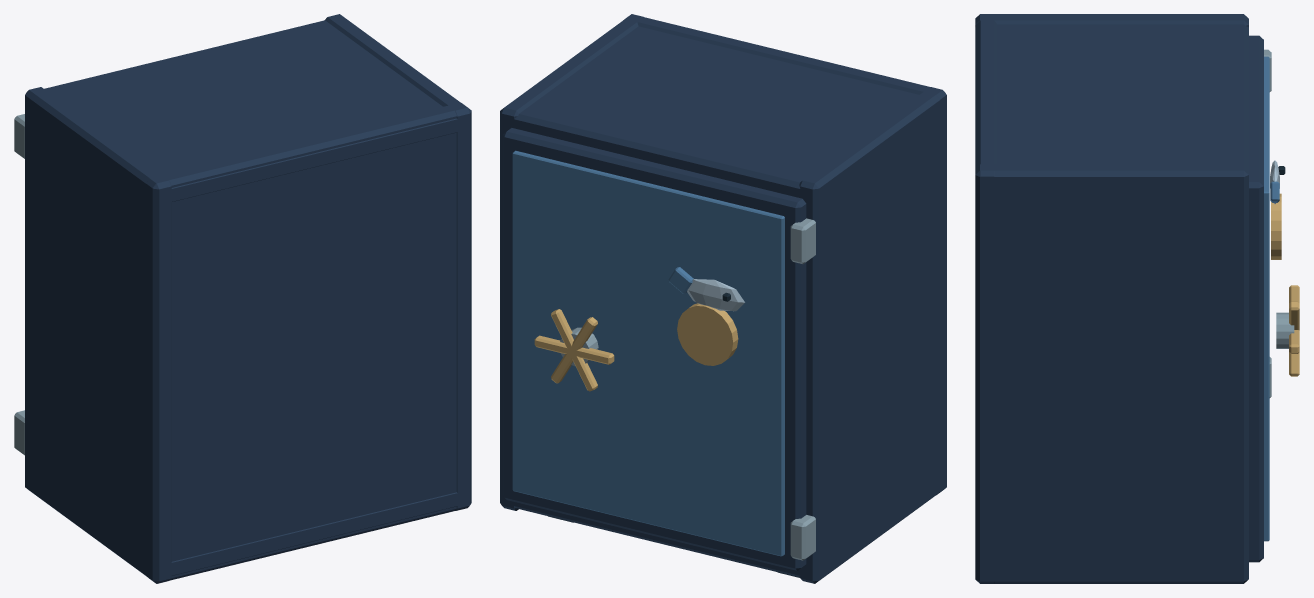
Rendered from token_vault.glb.
3 renders of one model, left to right at view 1: azimuth 30°, elevation 25°; view 2: azimuth 150°, elevation 25°; view 3: azimuth 270°, elevation 25°, orthographic. The views are drawn at different scales.
Parts seen in each view (by area): view 1: back, left, top, right, bottom; view 2: inset, left, top, door_panel, back, bottom, right, combination_dial, wheel_spoke (×3), hinge (×2), whale_badge; view 3: right, top, door_panel, back, bottom, left, inset, combination_dial, wheel_hub, wheel_spoke.
Part boxes in pixels (x1=…): back: x1=146, y1=102, x2=471, y2=583; left: x1=25, y1=87, x2=171, y2=583; top: x1=25, y1=20, x2=471, y2=204; right: x1=325, y1=14, x2=471, y2=510; bottom: x1=25, y1=472, x2=471, y2=578; inset: x1=512, y1=150, x2=784, y2=556; left: x1=799, y1=87, x2=946, y2=583; top: x1=500, y1=26, x2=946, y2=204; door_panel: x1=503, y1=128, x2=806, y2=570; back: x1=624, y1=14, x2=946, y2=494; bottom: x1=500, y1=472, x2=946, y2=578; right: x1=500, y1=14, x2=643, y2=510; combination_dial: x1=677, y1=303, x2=738, y2=365; wheel_spoke (×3): x1=534, y1=309, x2=614, y2=391; hinge (×2): x1=790, y1=218, x2=815, y2=560; whale_badge: x1=687, y1=279, x2=744, y2=311; right: x1=975, y1=164, x2=1248, y2=583; top: x1=975, y1=24, x2=1248, y2=192; door_panel: x1=1249, y1=35, x2=1263, y2=562; back: x1=976, y1=14, x2=997, y2=583; bottom: x1=975, y1=563, x2=1248, y2=578; left: x1=975, y1=14, x2=1248, y2=27; inset: x1=1264, y1=56, x2=1269, y2=541; combination_dial: x1=1271, y1=193, x2=1281, y2=259; wheel_hub: x1=1276, y1=312, x2=1294, y2=348; wheel_spoke: x1=1289, y1=285, x2=1299, y2=376.
Bounding box in the file's own units: 1.25 × 1.55 × 1.07.
